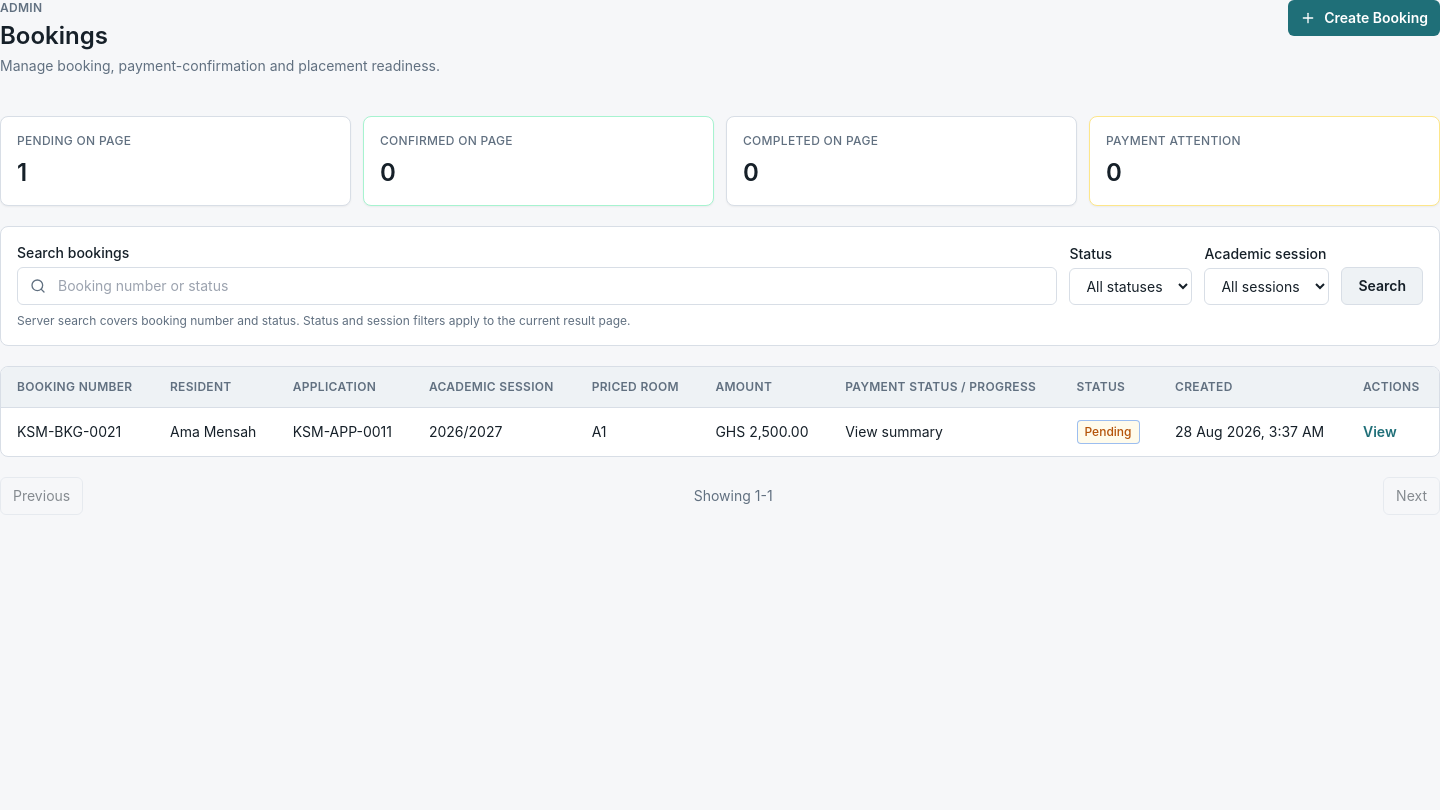
Scenario: BookingsPage › shows confirmation failure
Click the button "View".
click(1380, 432)  # box [1363,422,1397,442]
(page scrolled)
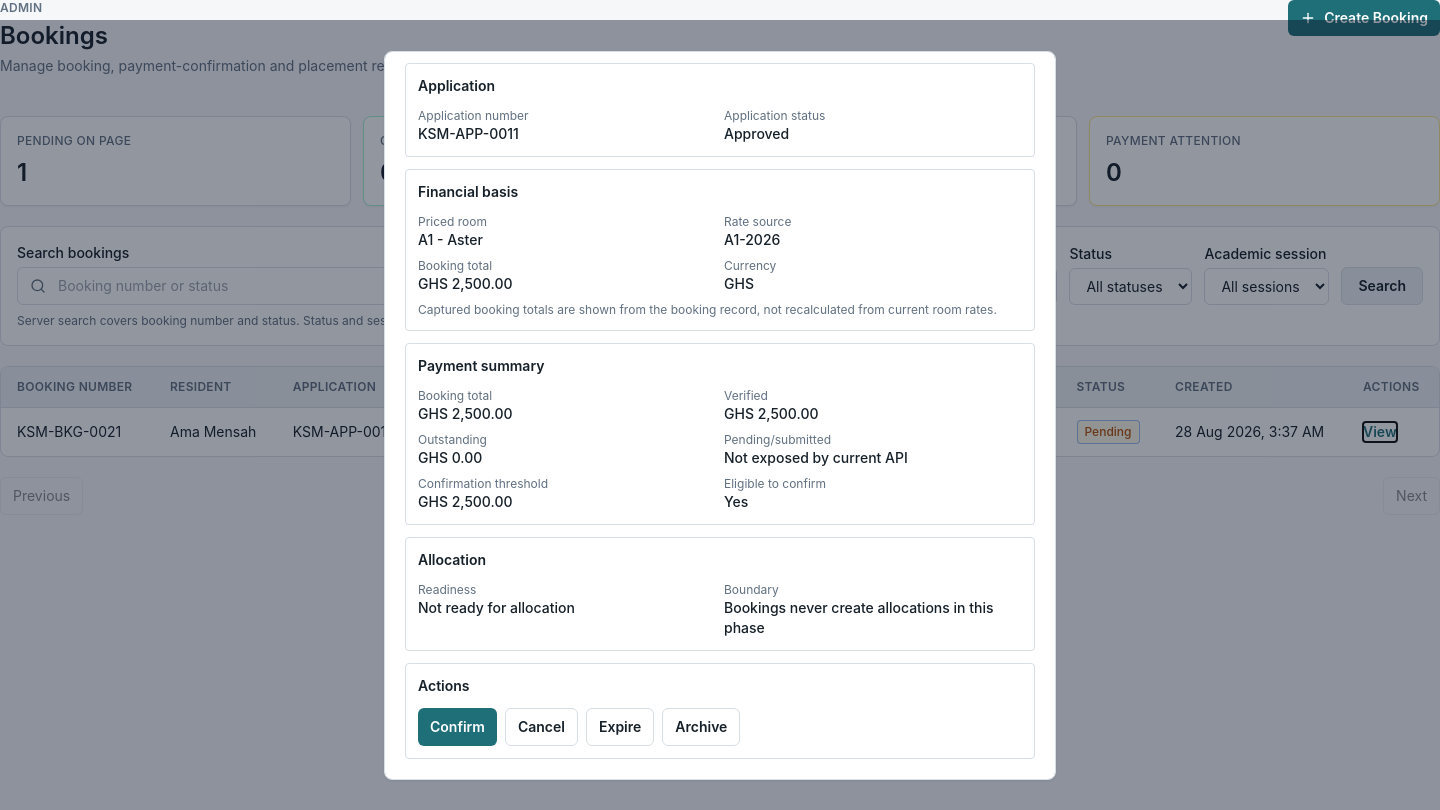
Click the button "Confirm".
click(457, 726)  # box [418,708,497,746]
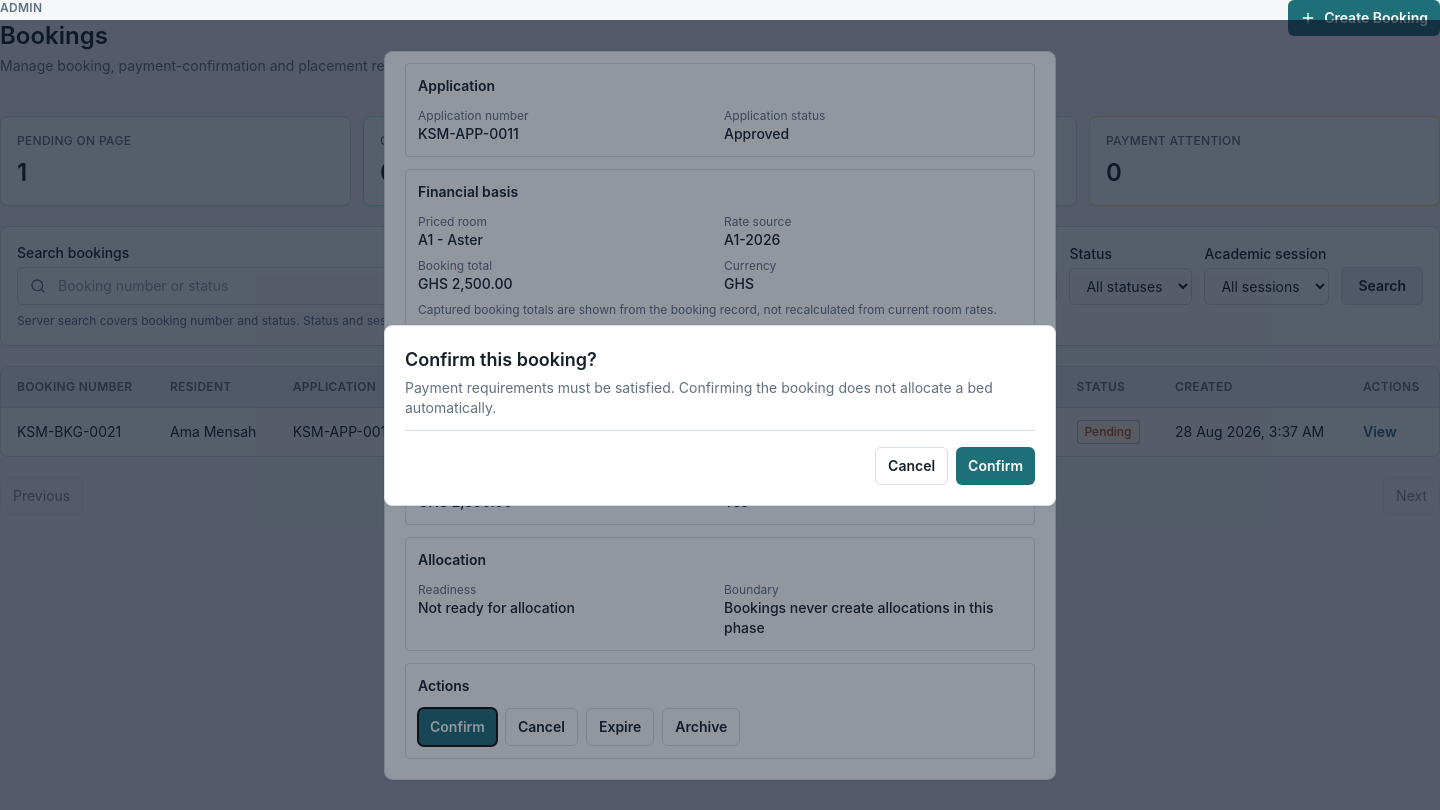
Click the button "Confirm".
click(996, 466)  # box [956,446,1035,484]
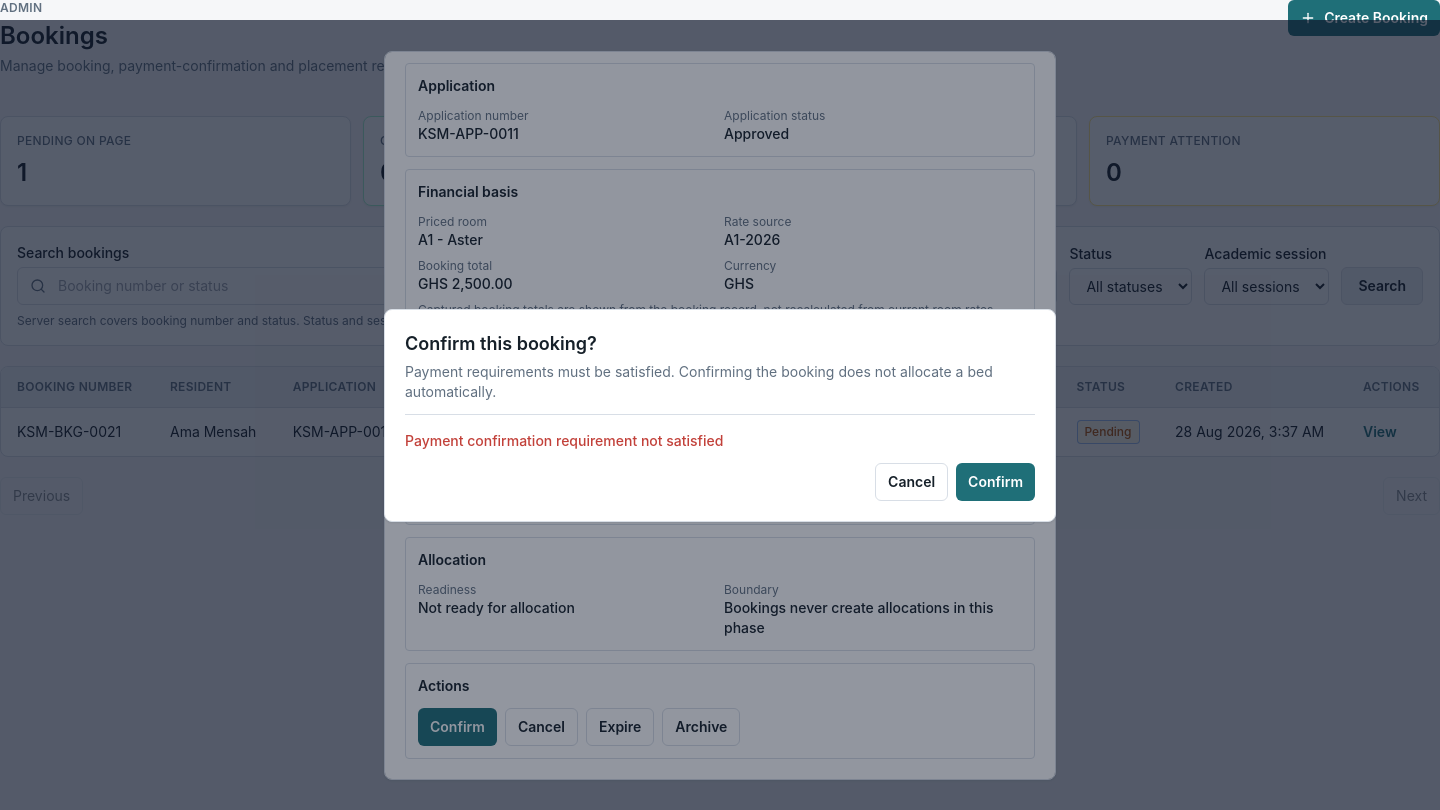
Check: the message reads "Payment confirmation requirement not satisfied", box [405,432,723,448]
